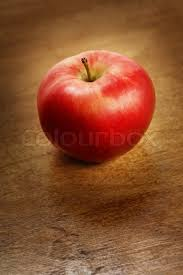apple: (39, 52, 155, 162)
